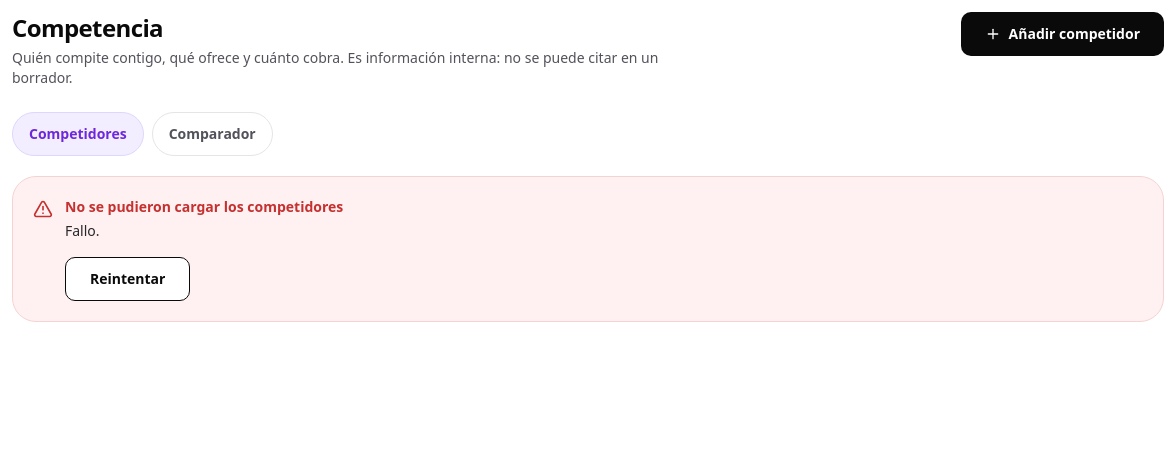
Test: Competencia · la lista › si falla, lo dice con «Reintentar» y reintenta
This screenshot has width=1176, height=463.
Expected: the message shows "No se pudieron cargar los competidores", [65,197,343,216]
Click the button "Reintentar" at (128, 279), box [65,257,190,301]
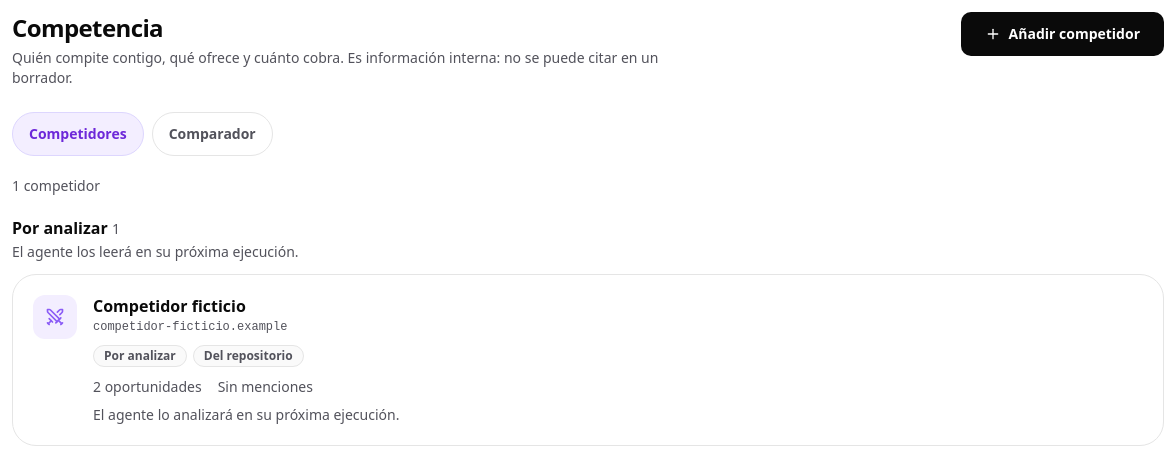
Expected: the link "Competidor ficticio" is shown, [93,295,246,317]
